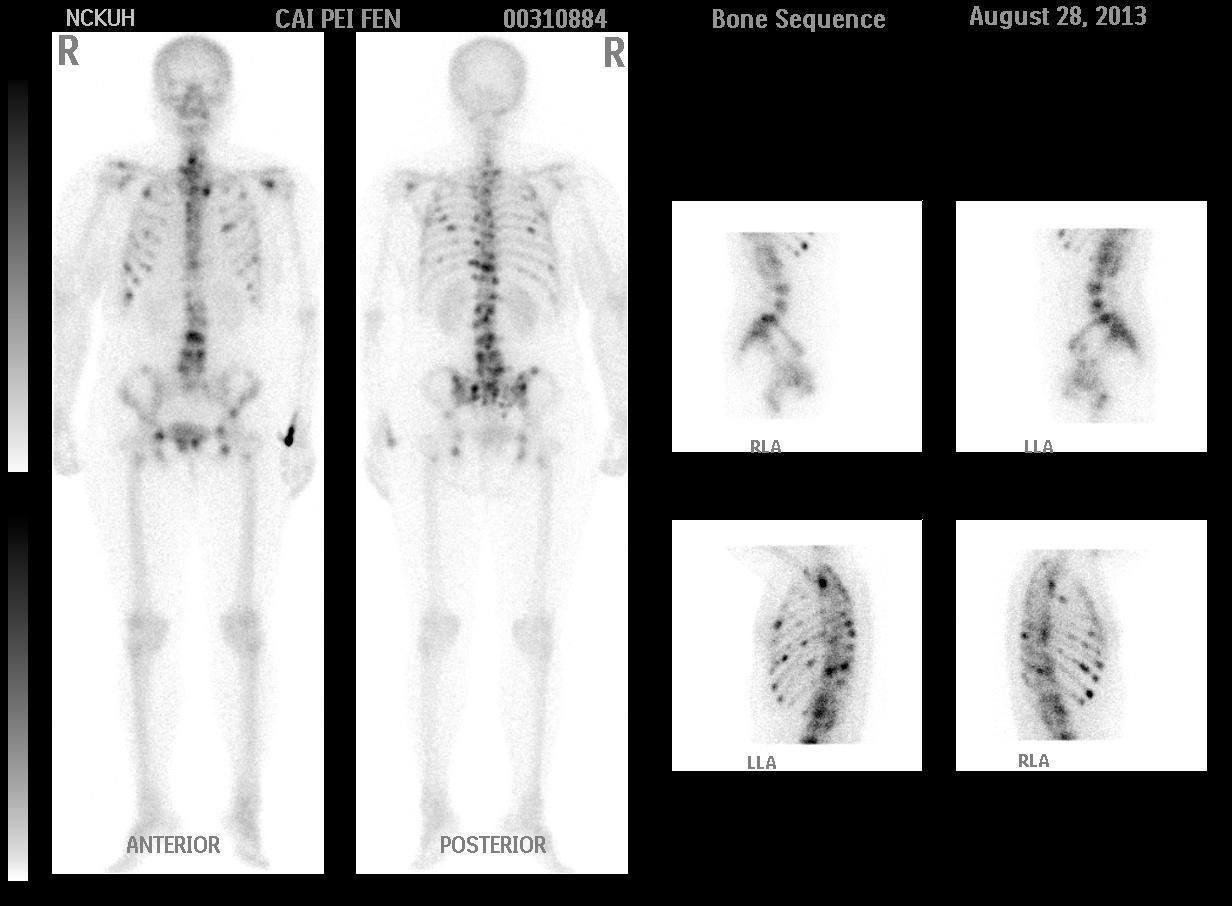person: (51, 30, 630, 876)
